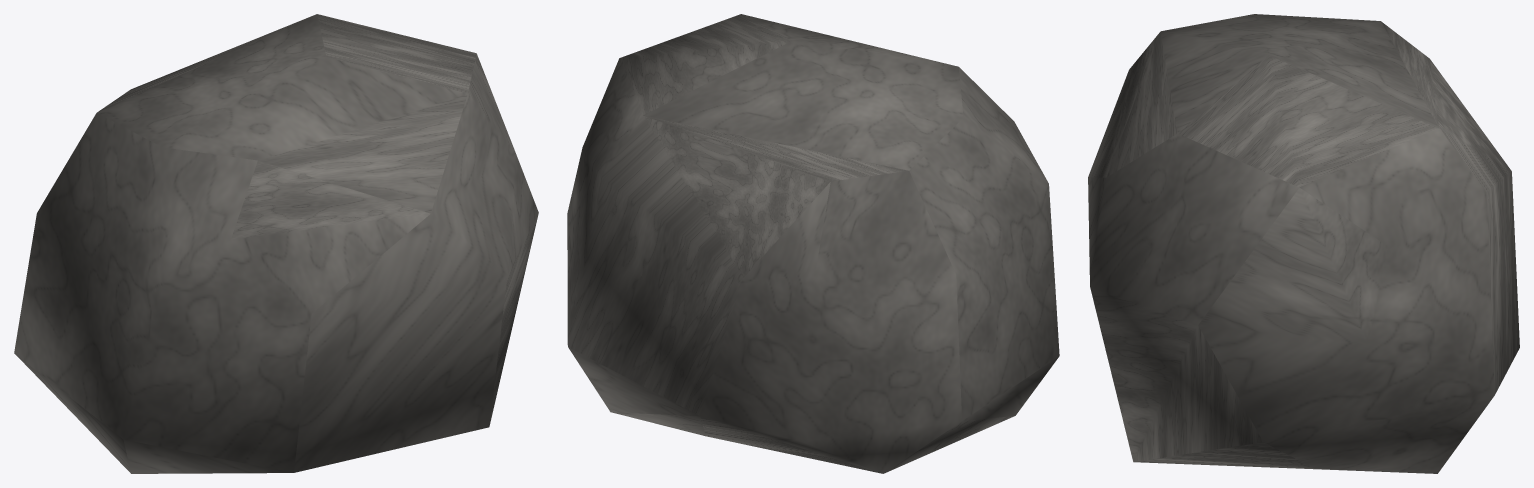
The model's file is RoundBoulder_Hull.fbx.
3 renders of one model, left to right at view 1: azimuth 30°, elevation 25°; view 2: azimuth 150°, elevation 25°; view 3: azimuth 270°, elevation 25°, orthographic. The views are drawn at different scales.
Parts seen in each view (by area): view 1: RoundBoulder_Hull; view 2: RoundBoulder_Hull; view 3: RoundBoulder_Hull.
Part boxes in pixels (bbox=[...]): RoundBoulder_Hull: bbox=[14, 14, 538, 473]; RoundBoulder_Hull: bbox=[567, 14, 1059, 473]; RoundBoulder_Hull: bbox=[1088, 14, 1519, 473].
Bounding box in the file's own units: 2.75 × 2.14 × 2.3.
